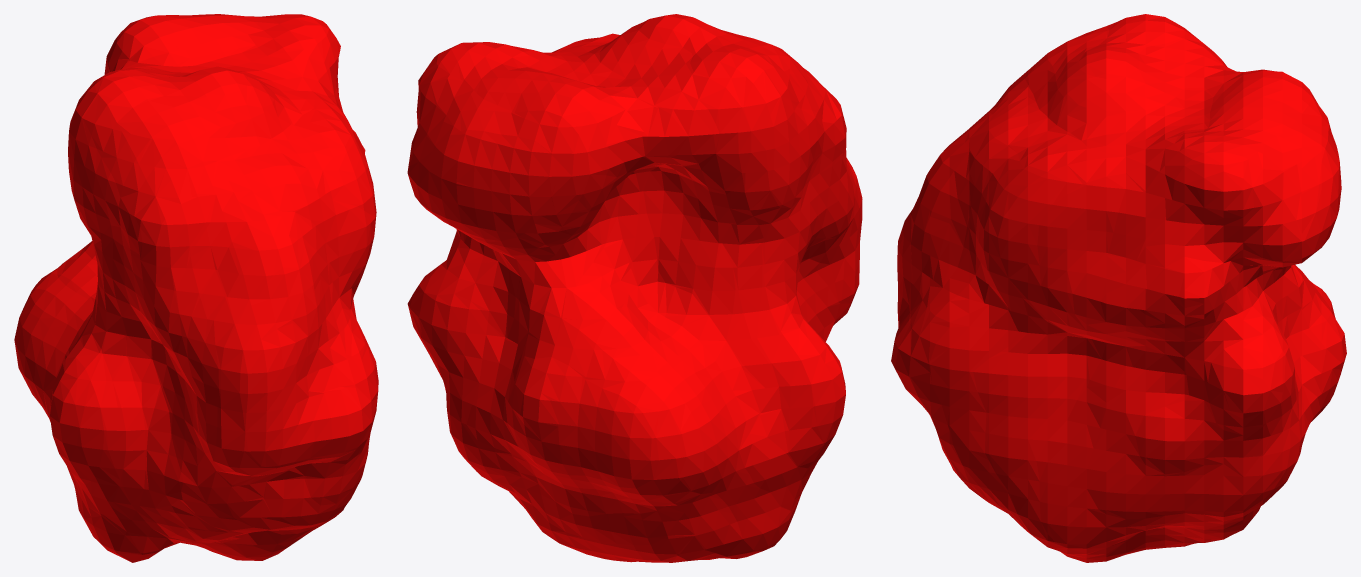
File: ilvE_coarse.dae
The picture shows the model from 3 angles, left to right: view 1: azimuth 30°, elevation 25°; view 2: azimuth 150°, elevation 25°; view 3: azimuth 270°, elevation 25°; orthographic projection. The views are drawn at different scales.
Parts seen in each view (by area): view 1: ilvE; view 2: ilvE; view 3: ilvE.
Boxes of the visible parts, left/top/right/bottom form: ilvE: left=14, top=14, right=378, bottom=562; ilvE: left=407, top=14, right=862, bottom=562; ilvE: left=891, top=14, right=1346, bottom=562.
Size of the model in its own units: 44.88 by 60.65 by 50.84.
